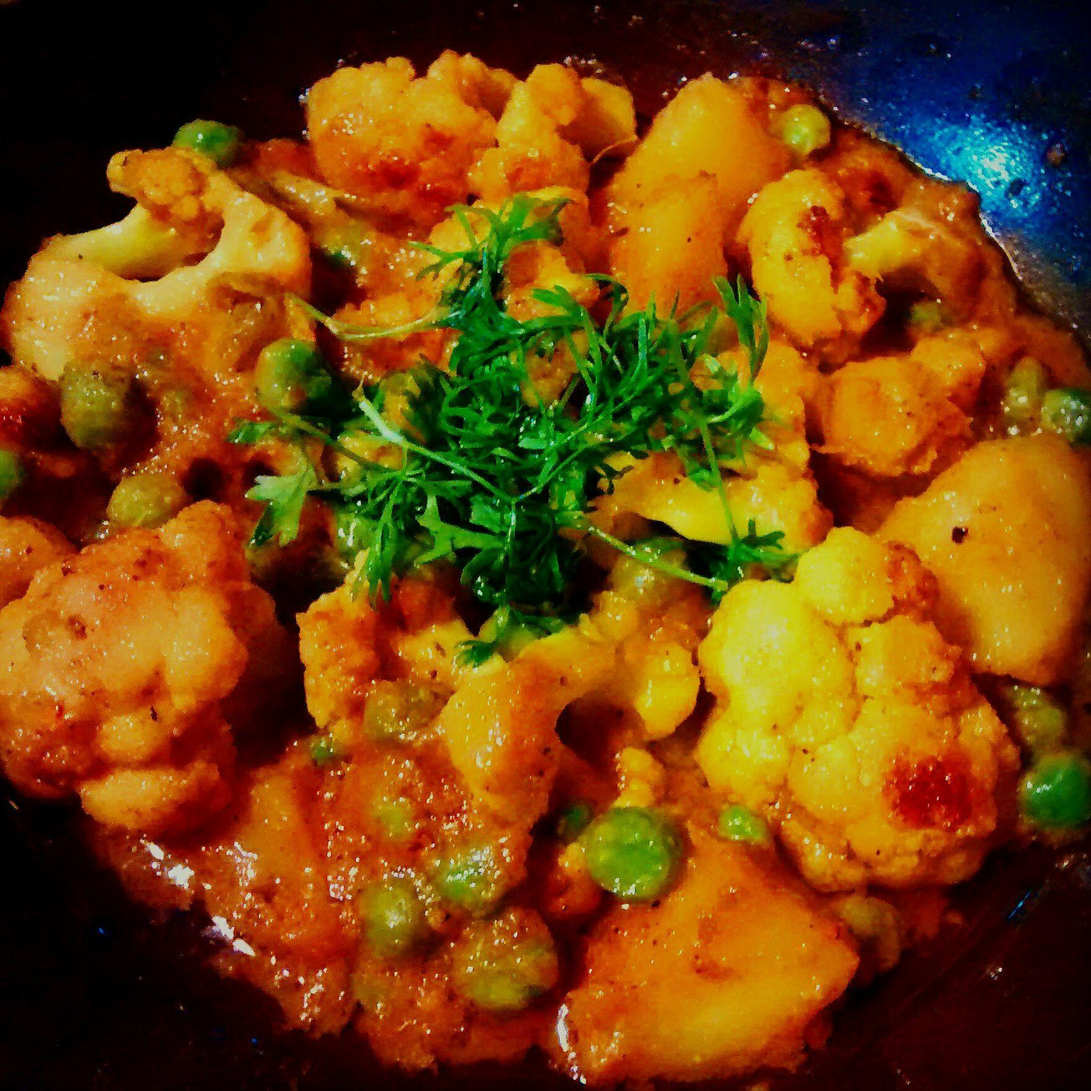AlooGobi: (2, 49, 1091, 1088)
